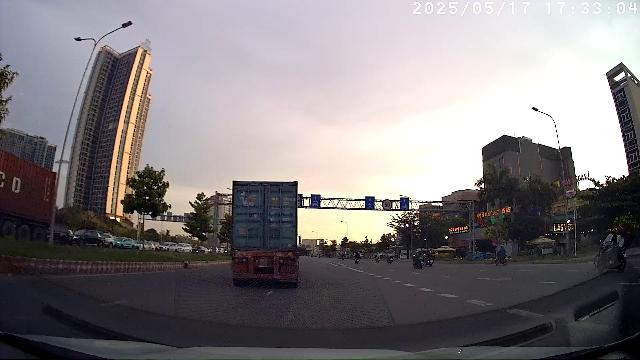127-toc-do-toi-da-50: (382, 200, 392, 210)
